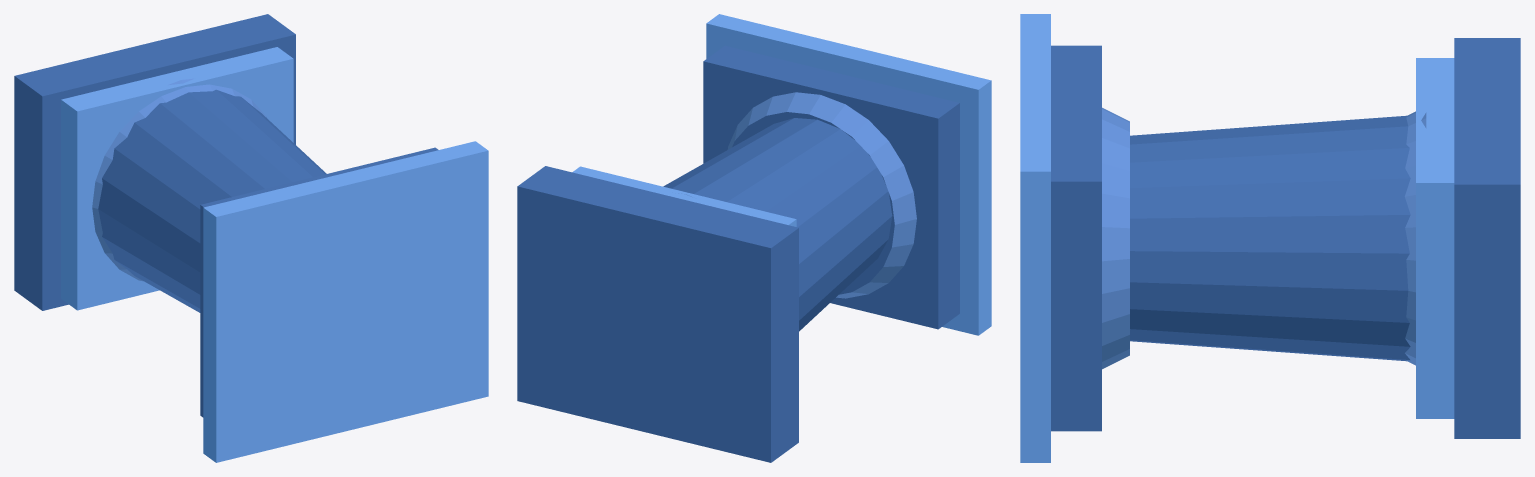
Rendered from SpalakhRuinColumn_v095.glb.
The picture shows the model from 3 angles, left to right: view 1: azimuth 30°, elevation 25°; view 2: azimuth 150°, elevation 25°; view 3: azimuth 270°, elevation 25°; orthographic projection. The views are drawn at different scales.
Bounding box in the file's own units: 0.73 × 0.63 × 0.98.
